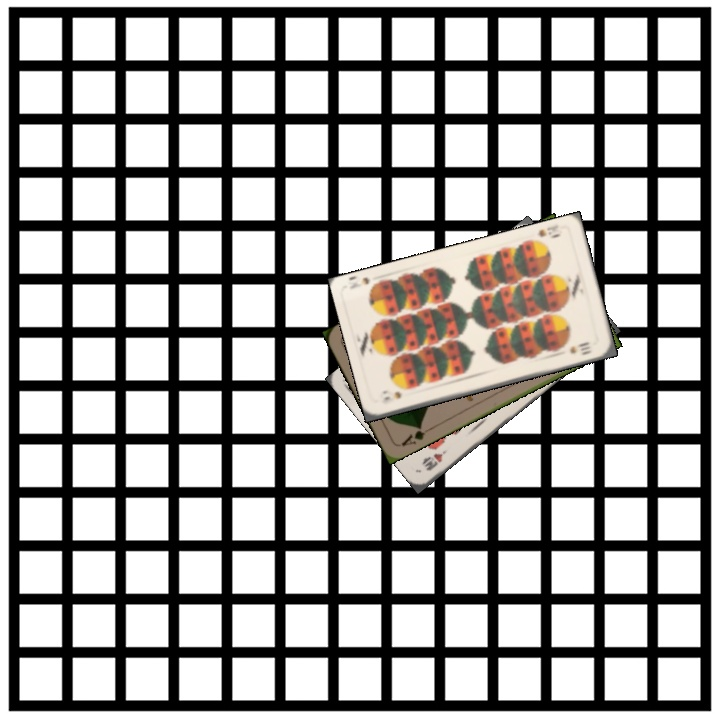GA: (397, 421, 434, 449)
H10: (419, 446, 450, 474)
S10: (534, 221, 563, 241), (377, 388, 405, 407)
